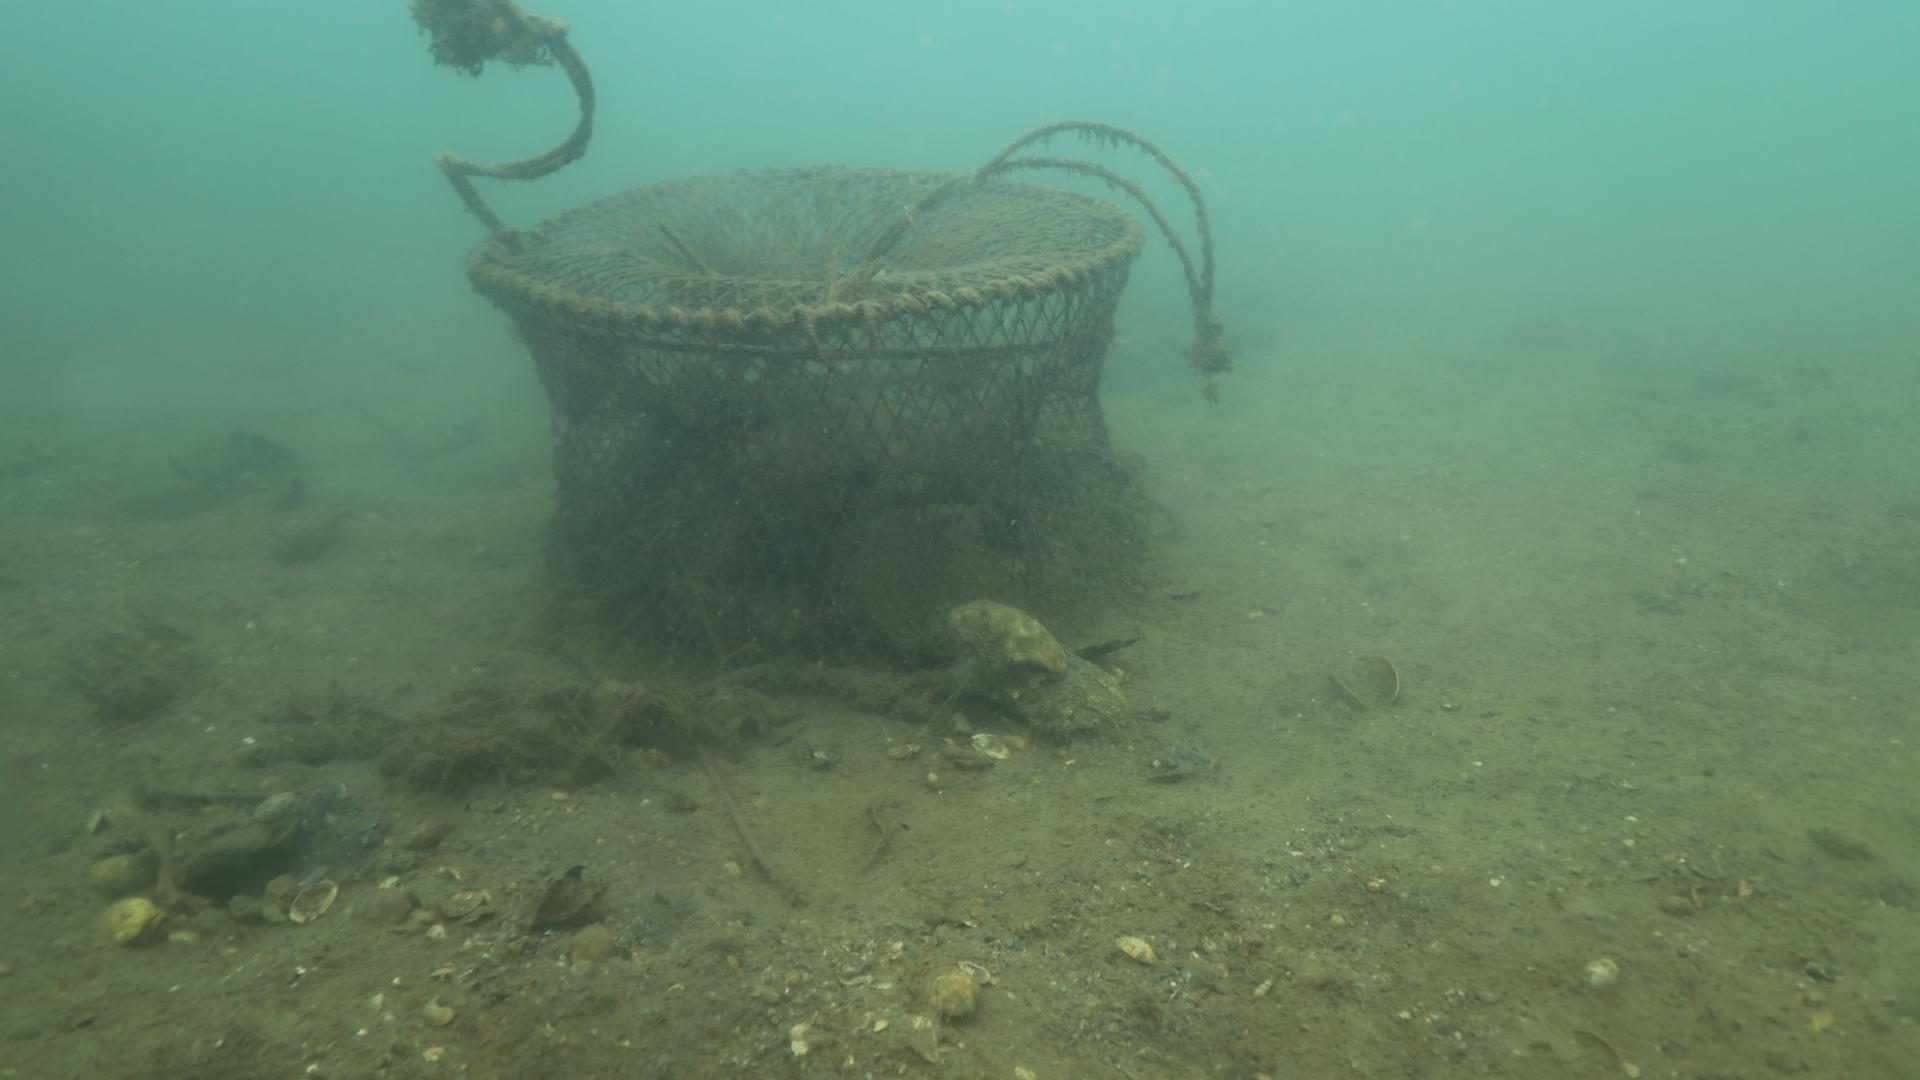bundle of ropes: (866, 119, 1215, 318), (433, 33, 592, 237)
circular fish trap: (460, 162, 1145, 666)
